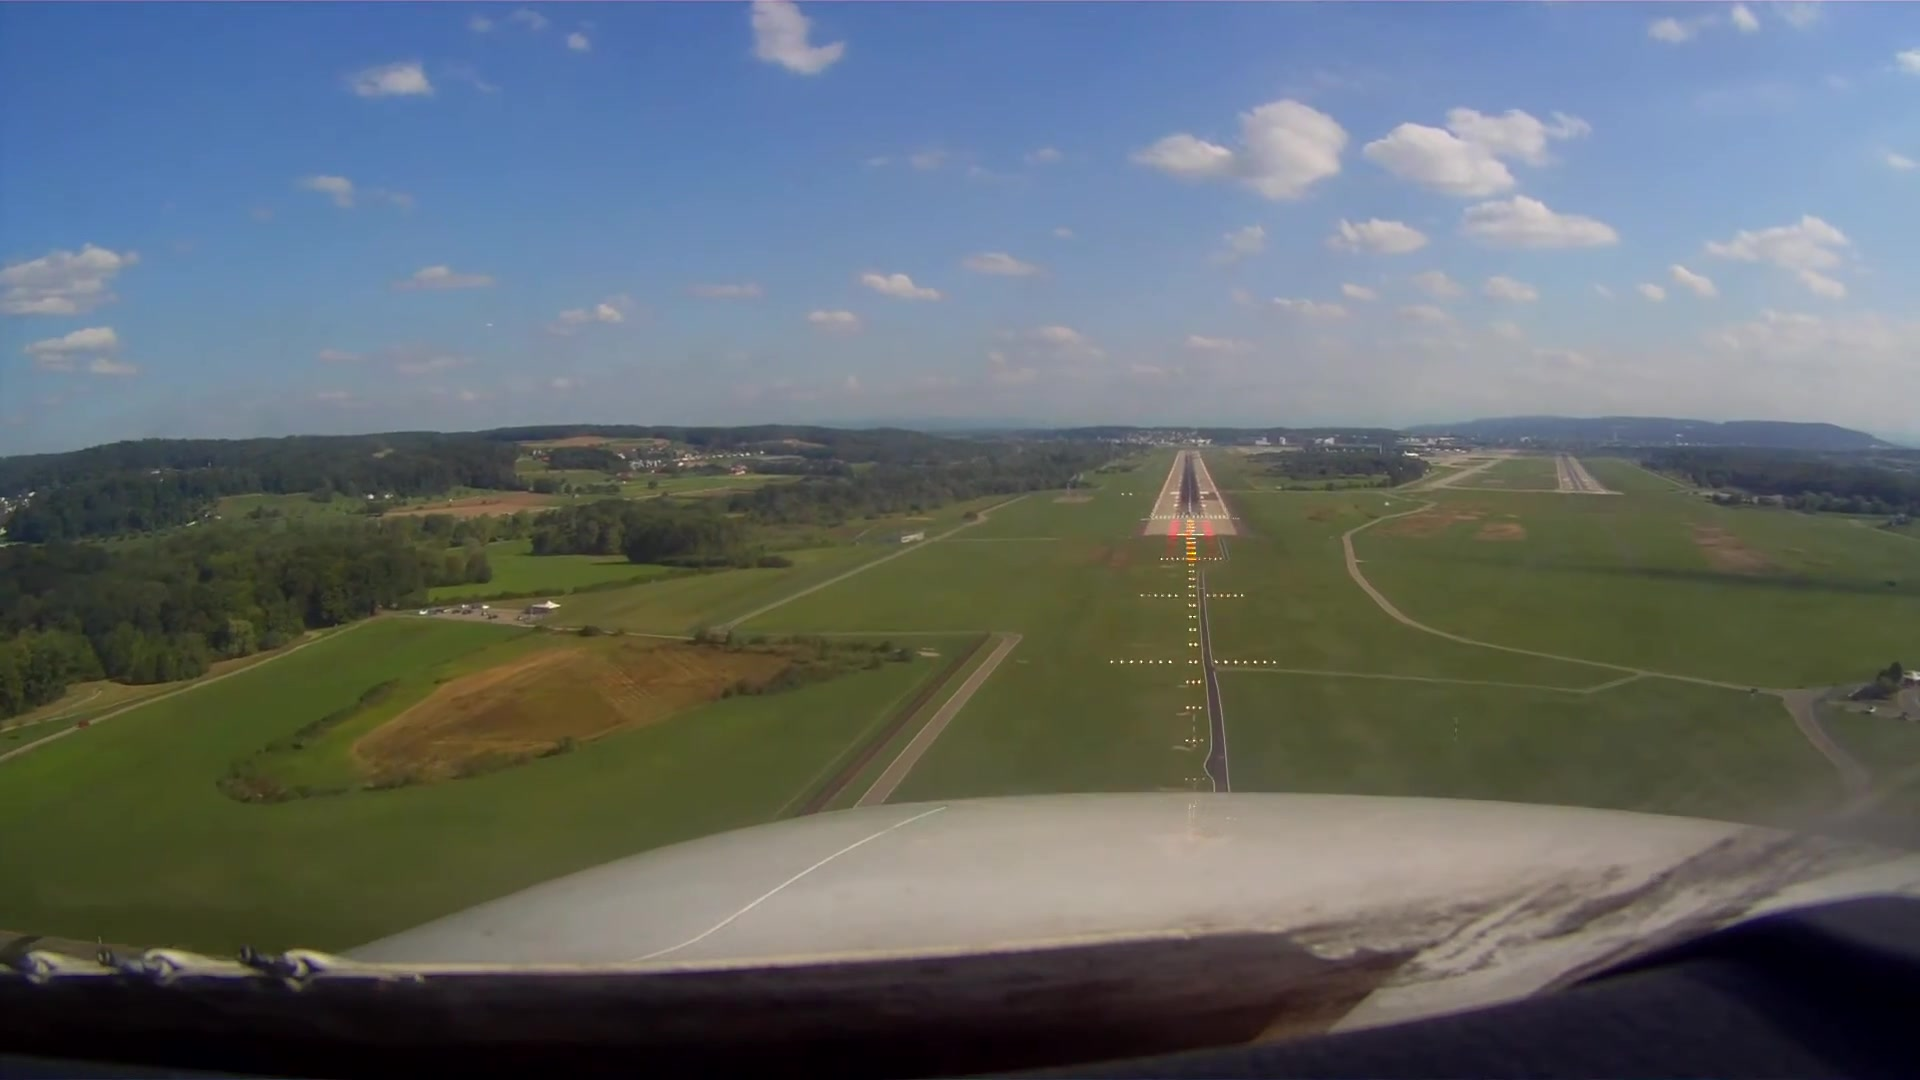entrance: (1151, 512, 1230, 522)
runway: (1149, 446, 1233, 527), (1556, 448, 1607, 491)
